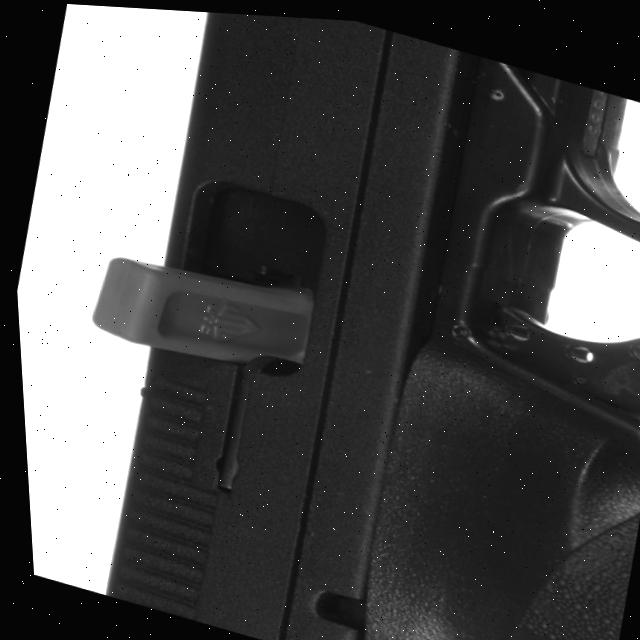pistol: (3, 0, 640, 640)
